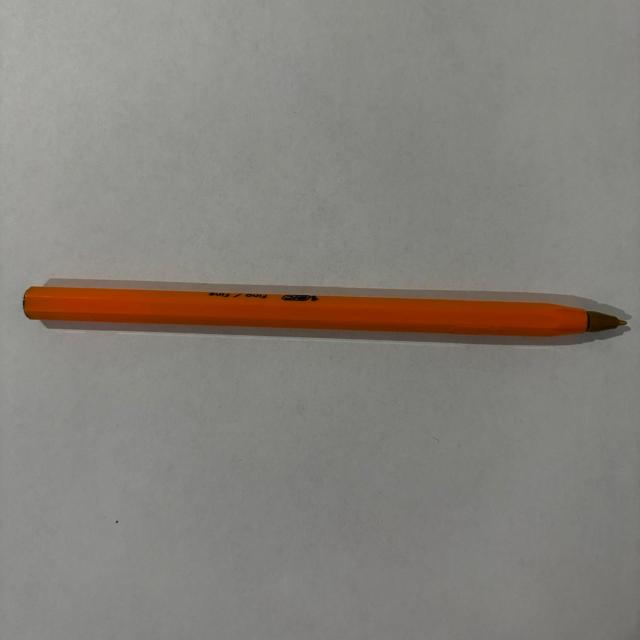pencil: (23, 286, 630, 339)
